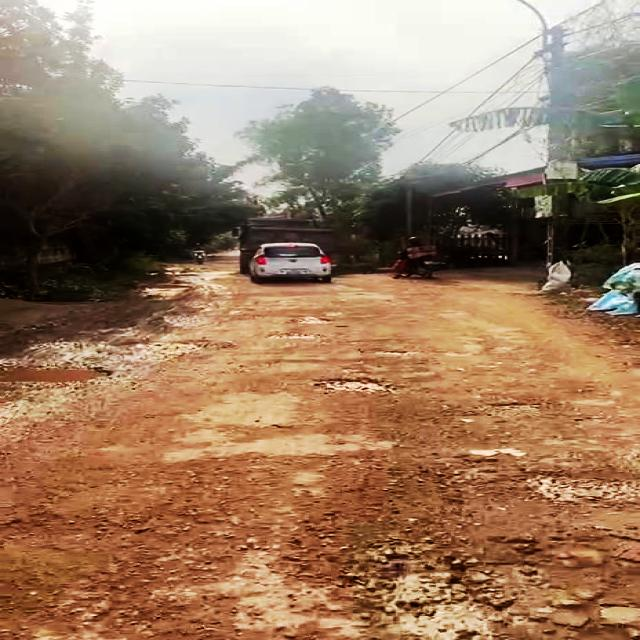pothole: (378, 532, 640, 640), (518, 468, 640, 511), (0, 362, 117, 387), (310, 375, 394, 397)
